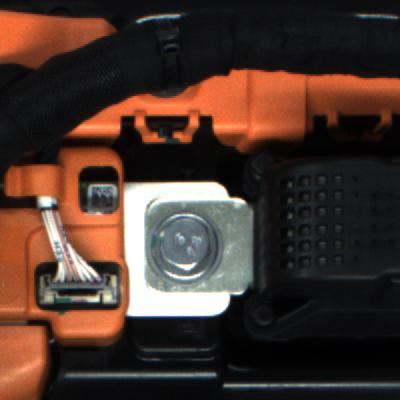nut_b: (144, 207, 232, 288)
